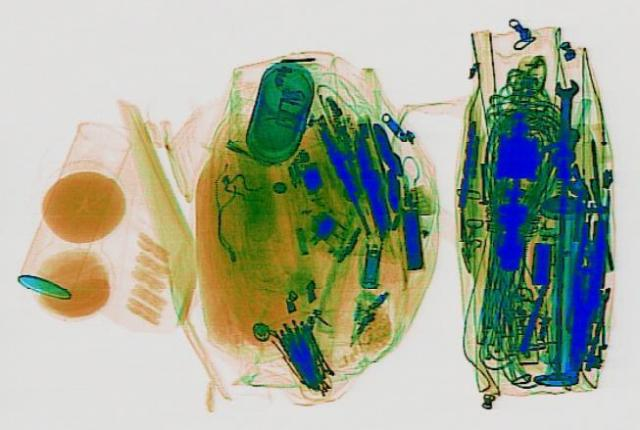Pliers: (557, 218, 609, 371)
Wrench: (552, 77, 578, 164)
